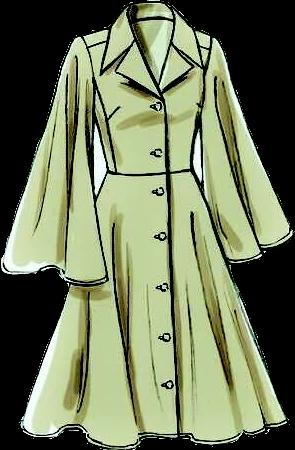Bodice: (84, 0, 211, 175)
Hemline: (16, 419, 288, 449)
Neckline: (124, 4, 175, 94)
Skirt: (20, 168, 288, 449)
Sleeve: (1, 36, 109, 286), (200, 37, 292, 262)
Sleeveline: (197, 37, 214, 128), (82, 35, 98, 124)
Waistline: (106, 163, 196, 176)
